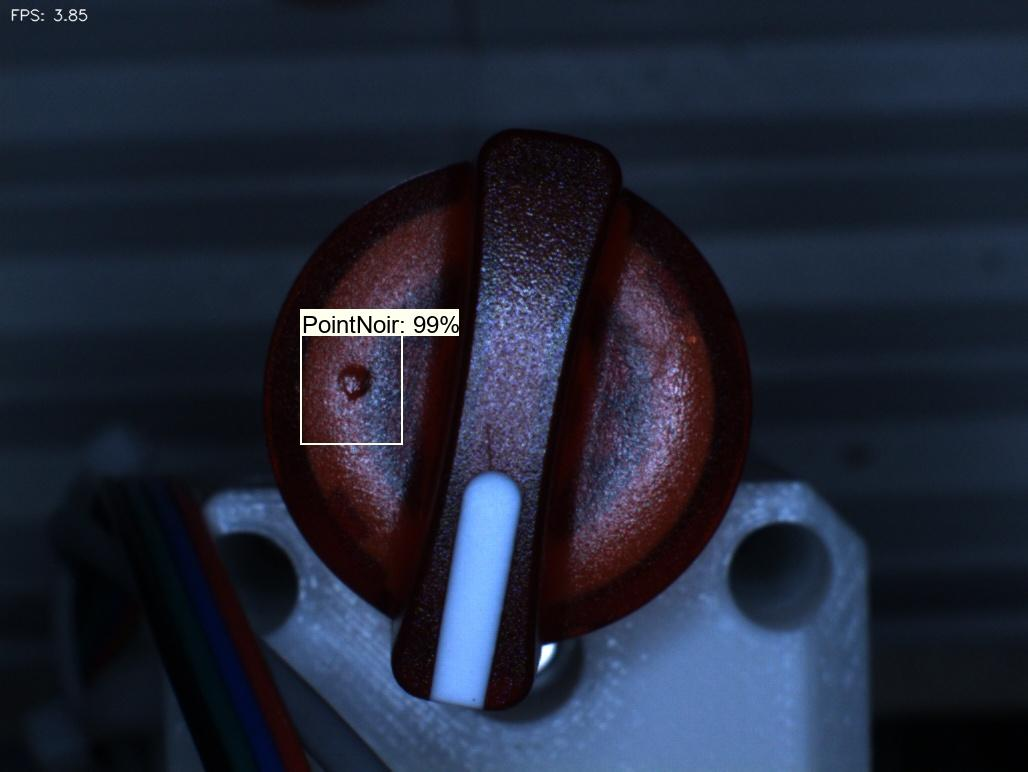Choc: (303, 341, 392, 430)
